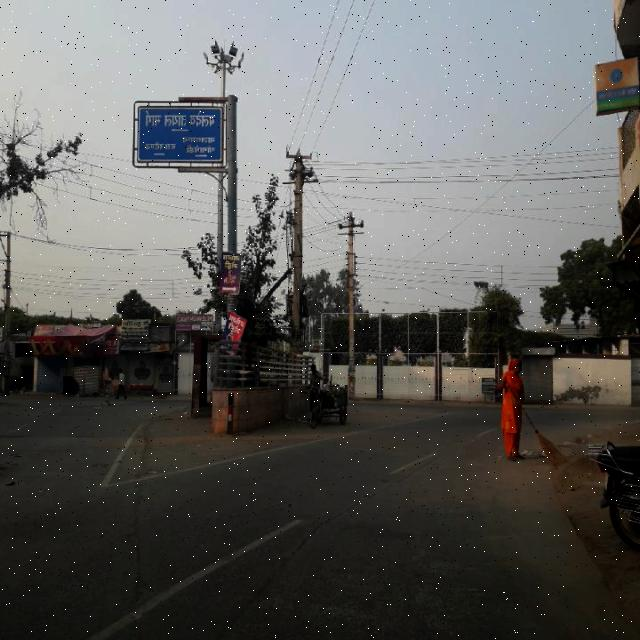D00: (193, 512, 339, 639)
D01: (121, 468, 155, 618)
